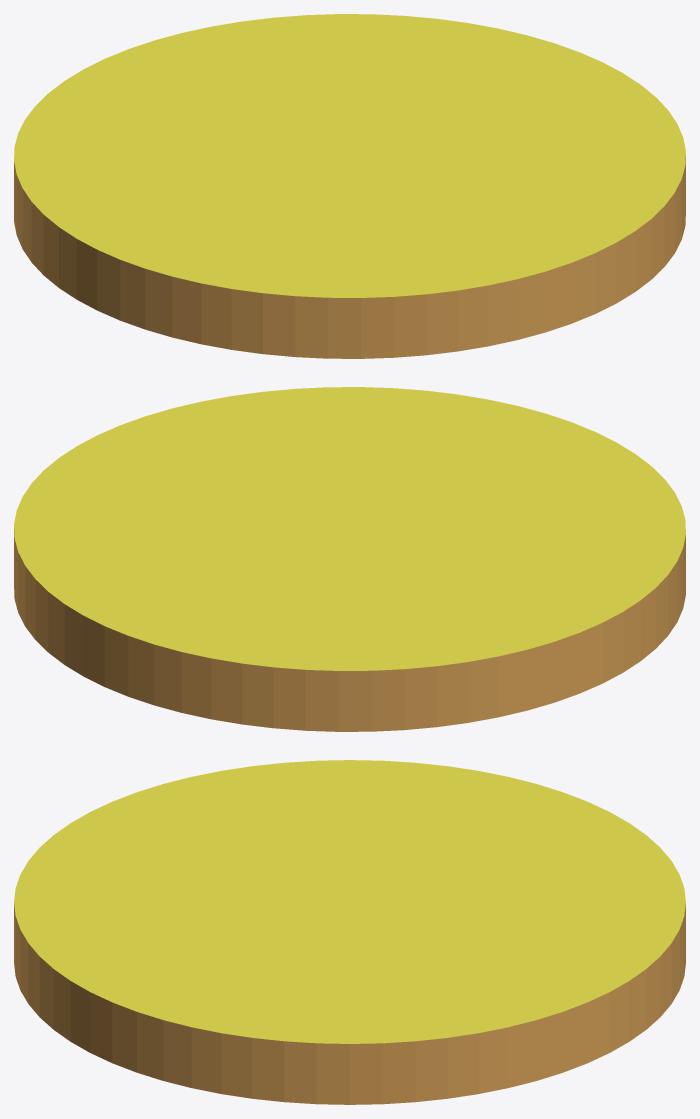
File: coin.glb
The picture shows the model from 3 angles, top to bottom: view 1: azimuth 30°, elevation 25°; view 2: azimuth 150°, elevation 25°; view 3: azimuth 270°, elevation 25°; orthographic projection.
Parts seen in each view (by area): view 1: Cylinder; view 2: Cylinder; view 3: Cylinder.
Part boxes in pixels (x1=…): Cylinder: x1=14, y1=14, x2=685, y2=358; Cylinder: x1=14, y1=387, x2=685, y2=731; Cylinder: x1=14, y1=760, x2=685, y2=1104.
Bounding box in the file's own units: 2 × 0.2 × 2.
